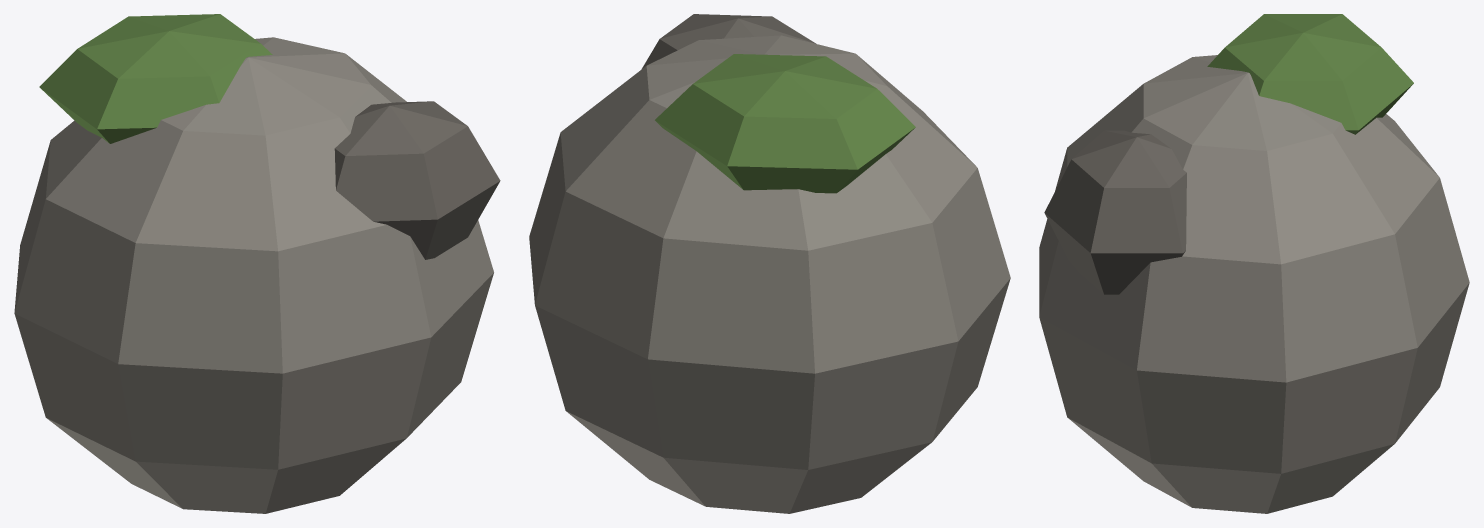
Rendered from p_rock.glb.
3 views of the same model, side by side, from view 1: azimuth 30°, elevation 25°; view 2: azimuth 150°, elevation 25°; view 3: azimuth 270°, elevation 25° (orthographic). The views are drawn at different scales.
Visible parts, largest first — view 1: rock; view 2: rock; view 3: rock.
Part boxes in pixels (left/top/right/bottom): rock: left=14, top=14, right=500, bottom=513; rock: left=529, top=14, right=1010, bottom=513; rock: left=1039, top=14, right=1469, bottom=513.
Size of the model in its own units: 2.56 by 2.6 by 2.33.
